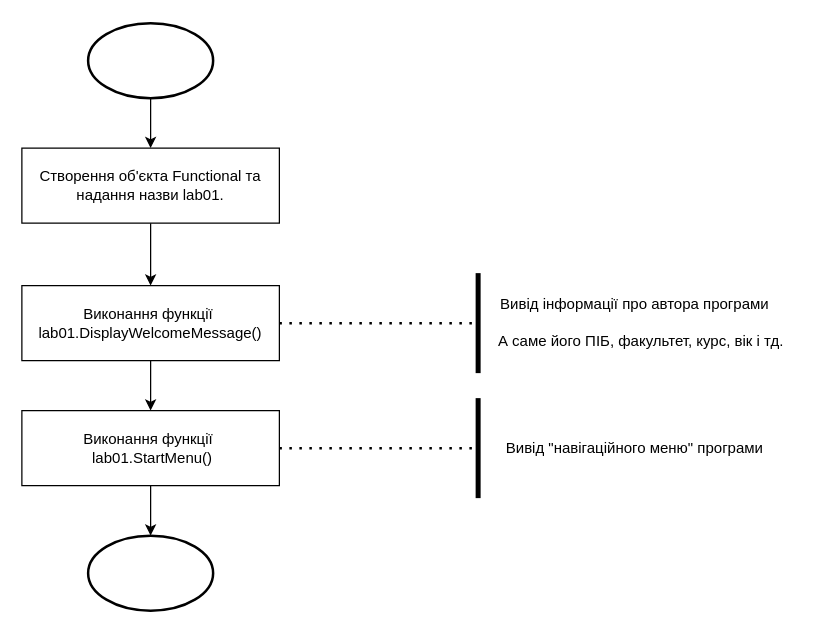
Some shapes in this 819 by 633 pixel diagram are drawn without their labels. The centre of each missing label's shape, as x and y in pixels:
"Кінець" goes at (x=150, y=572).
"Початок" goes at (x=150, y=60).
